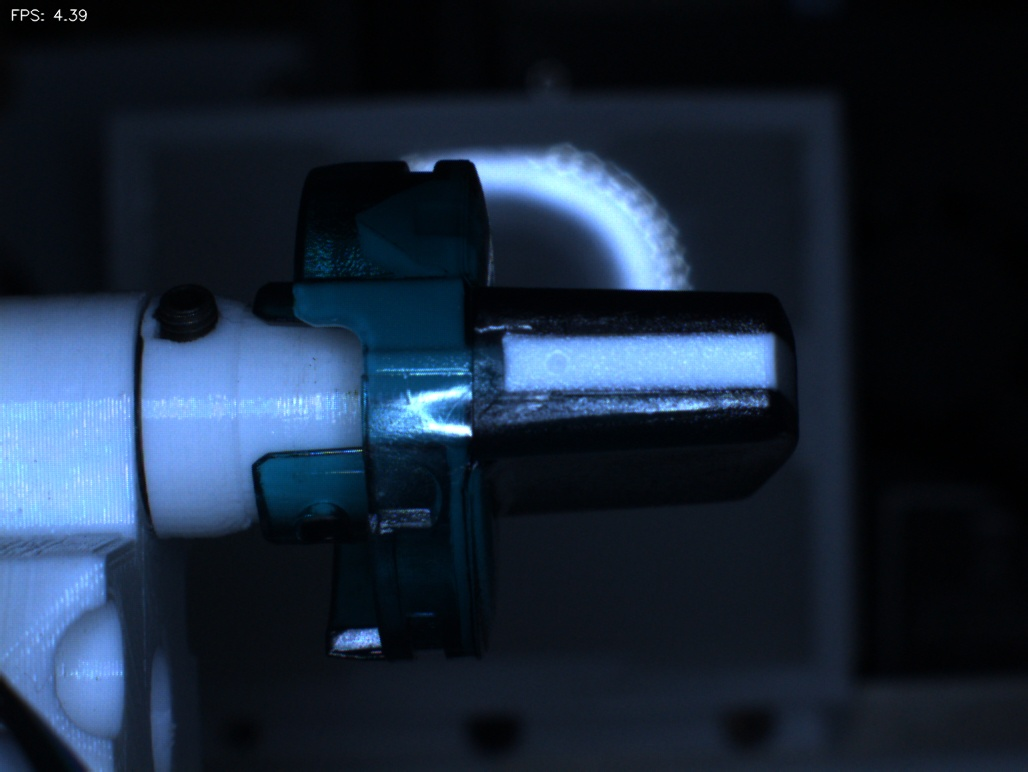DentOk: (330, 196, 397, 276)
